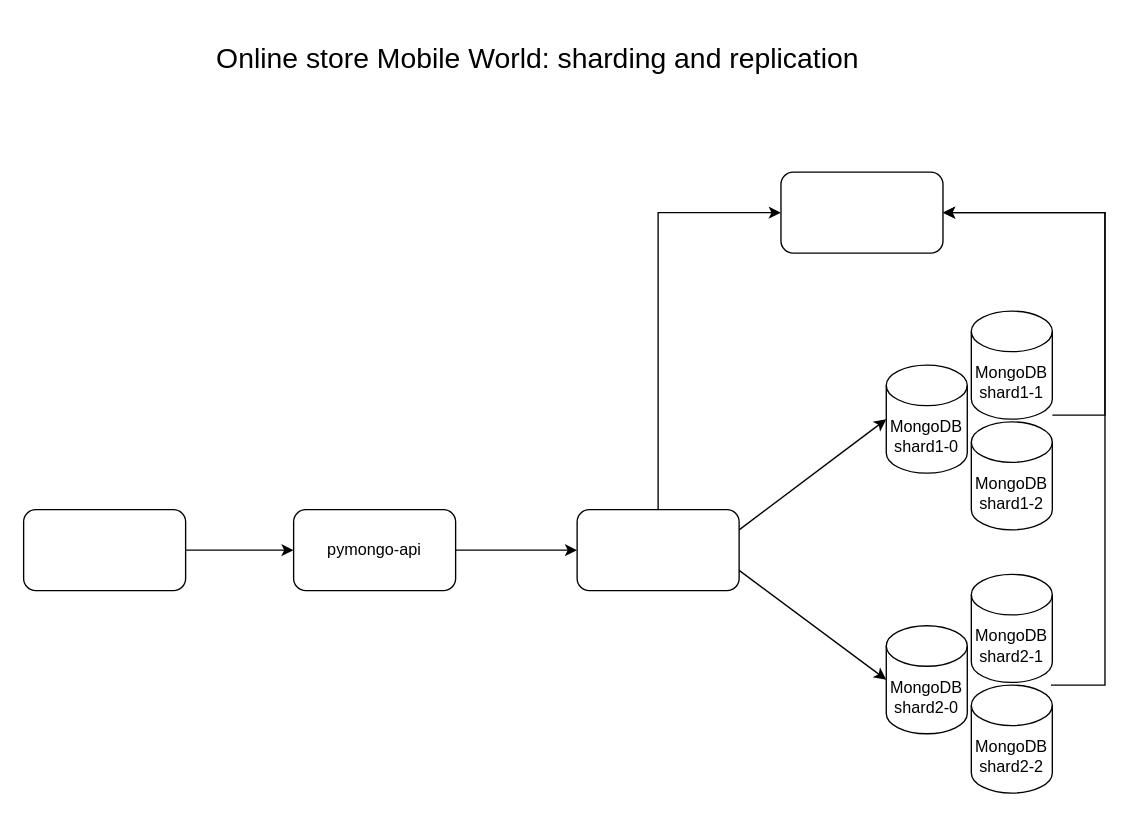
Some shapes in this 1139 by 817 pixel diagram are drawn without their labels. Each missing label, with the box of its shape:
configSrv: (780, 171, 943, 253)
Mongos routers: (576, 508, 739, 591)
Webapp: (22, 508, 186, 591)
